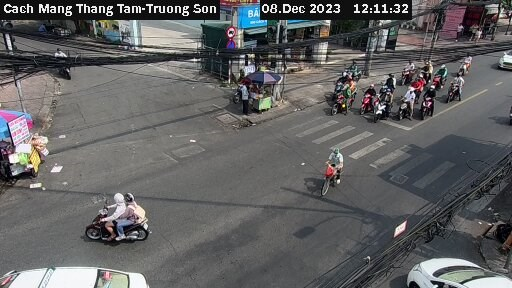car: (405, 243, 512, 288)
motorbike: (84, 191, 165, 256), (415, 85, 445, 117), (394, 88, 419, 116), (329, 90, 352, 118), (494, 43, 512, 75), (369, 90, 391, 116), (357, 85, 378, 112)
